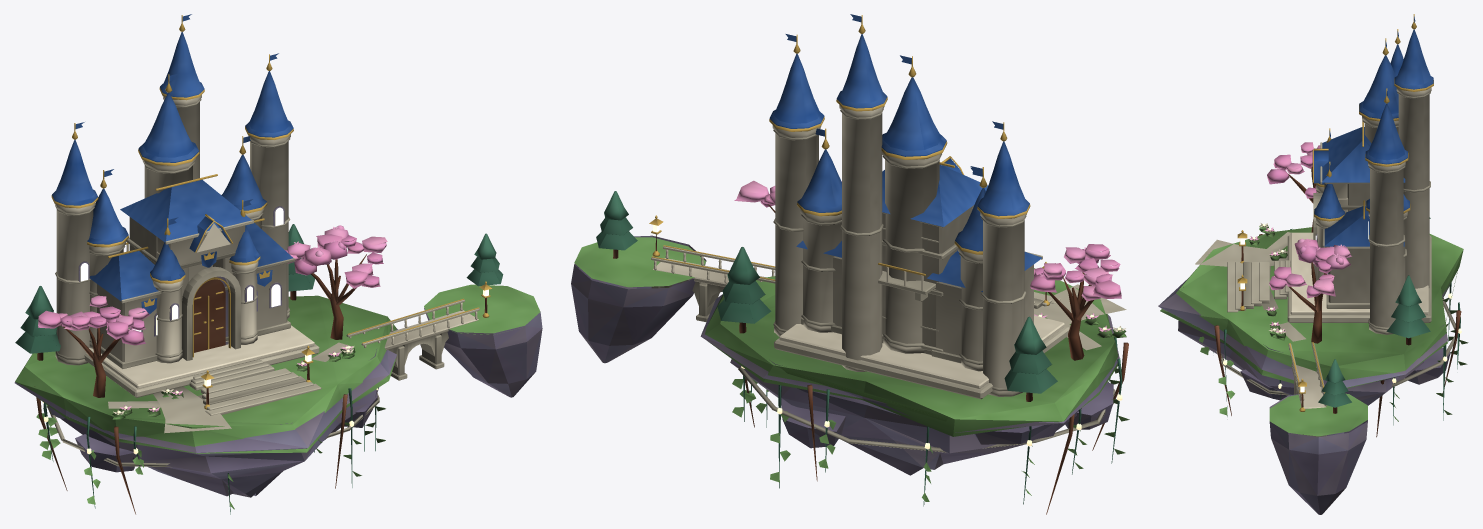
File: royal-island-citadel-background-v1-low.glb
3 renders of one model, left to right at view 1: azimuth 30°, elevation 25°; view 2: azimuth 150°, elevation 25°; view 3: azimuth 270°, elevation 25°, orthographic. The views are drawn at different scales.
Visible parts, largest first — view 1: royal-island-citadel-background-v1; view 2: royal-island-citadel-background-v1; view 3: royal-island-citadel-background-v1.
Part boxes in pixels (x1,y1,x2,y2): royal-island-citadel-background-v1: (14,14,542,514); royal-island-citadel-background-v1: (571,14,1129,514); royal-island-citadel-background-v1: (1158,14,1468,514).
Bounding box in the file's own units: 18.94 × 16.46 × 11.42.
Materials: 10 (10 with a texture image).
